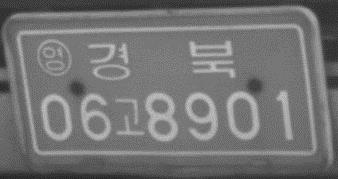0: (226, 90, 261, 140), (40, 91, 73, 142)
1: (273, 87, 300, 143)
6: (78, 91, 113, 142)
8: (145, 90, 180, 143)
9: (184, 90, 219, 142)
경북_D: (85, 37, 236, 83)
고: (113, 97, 145, 138)
영: (35, 37, 73, 78)
